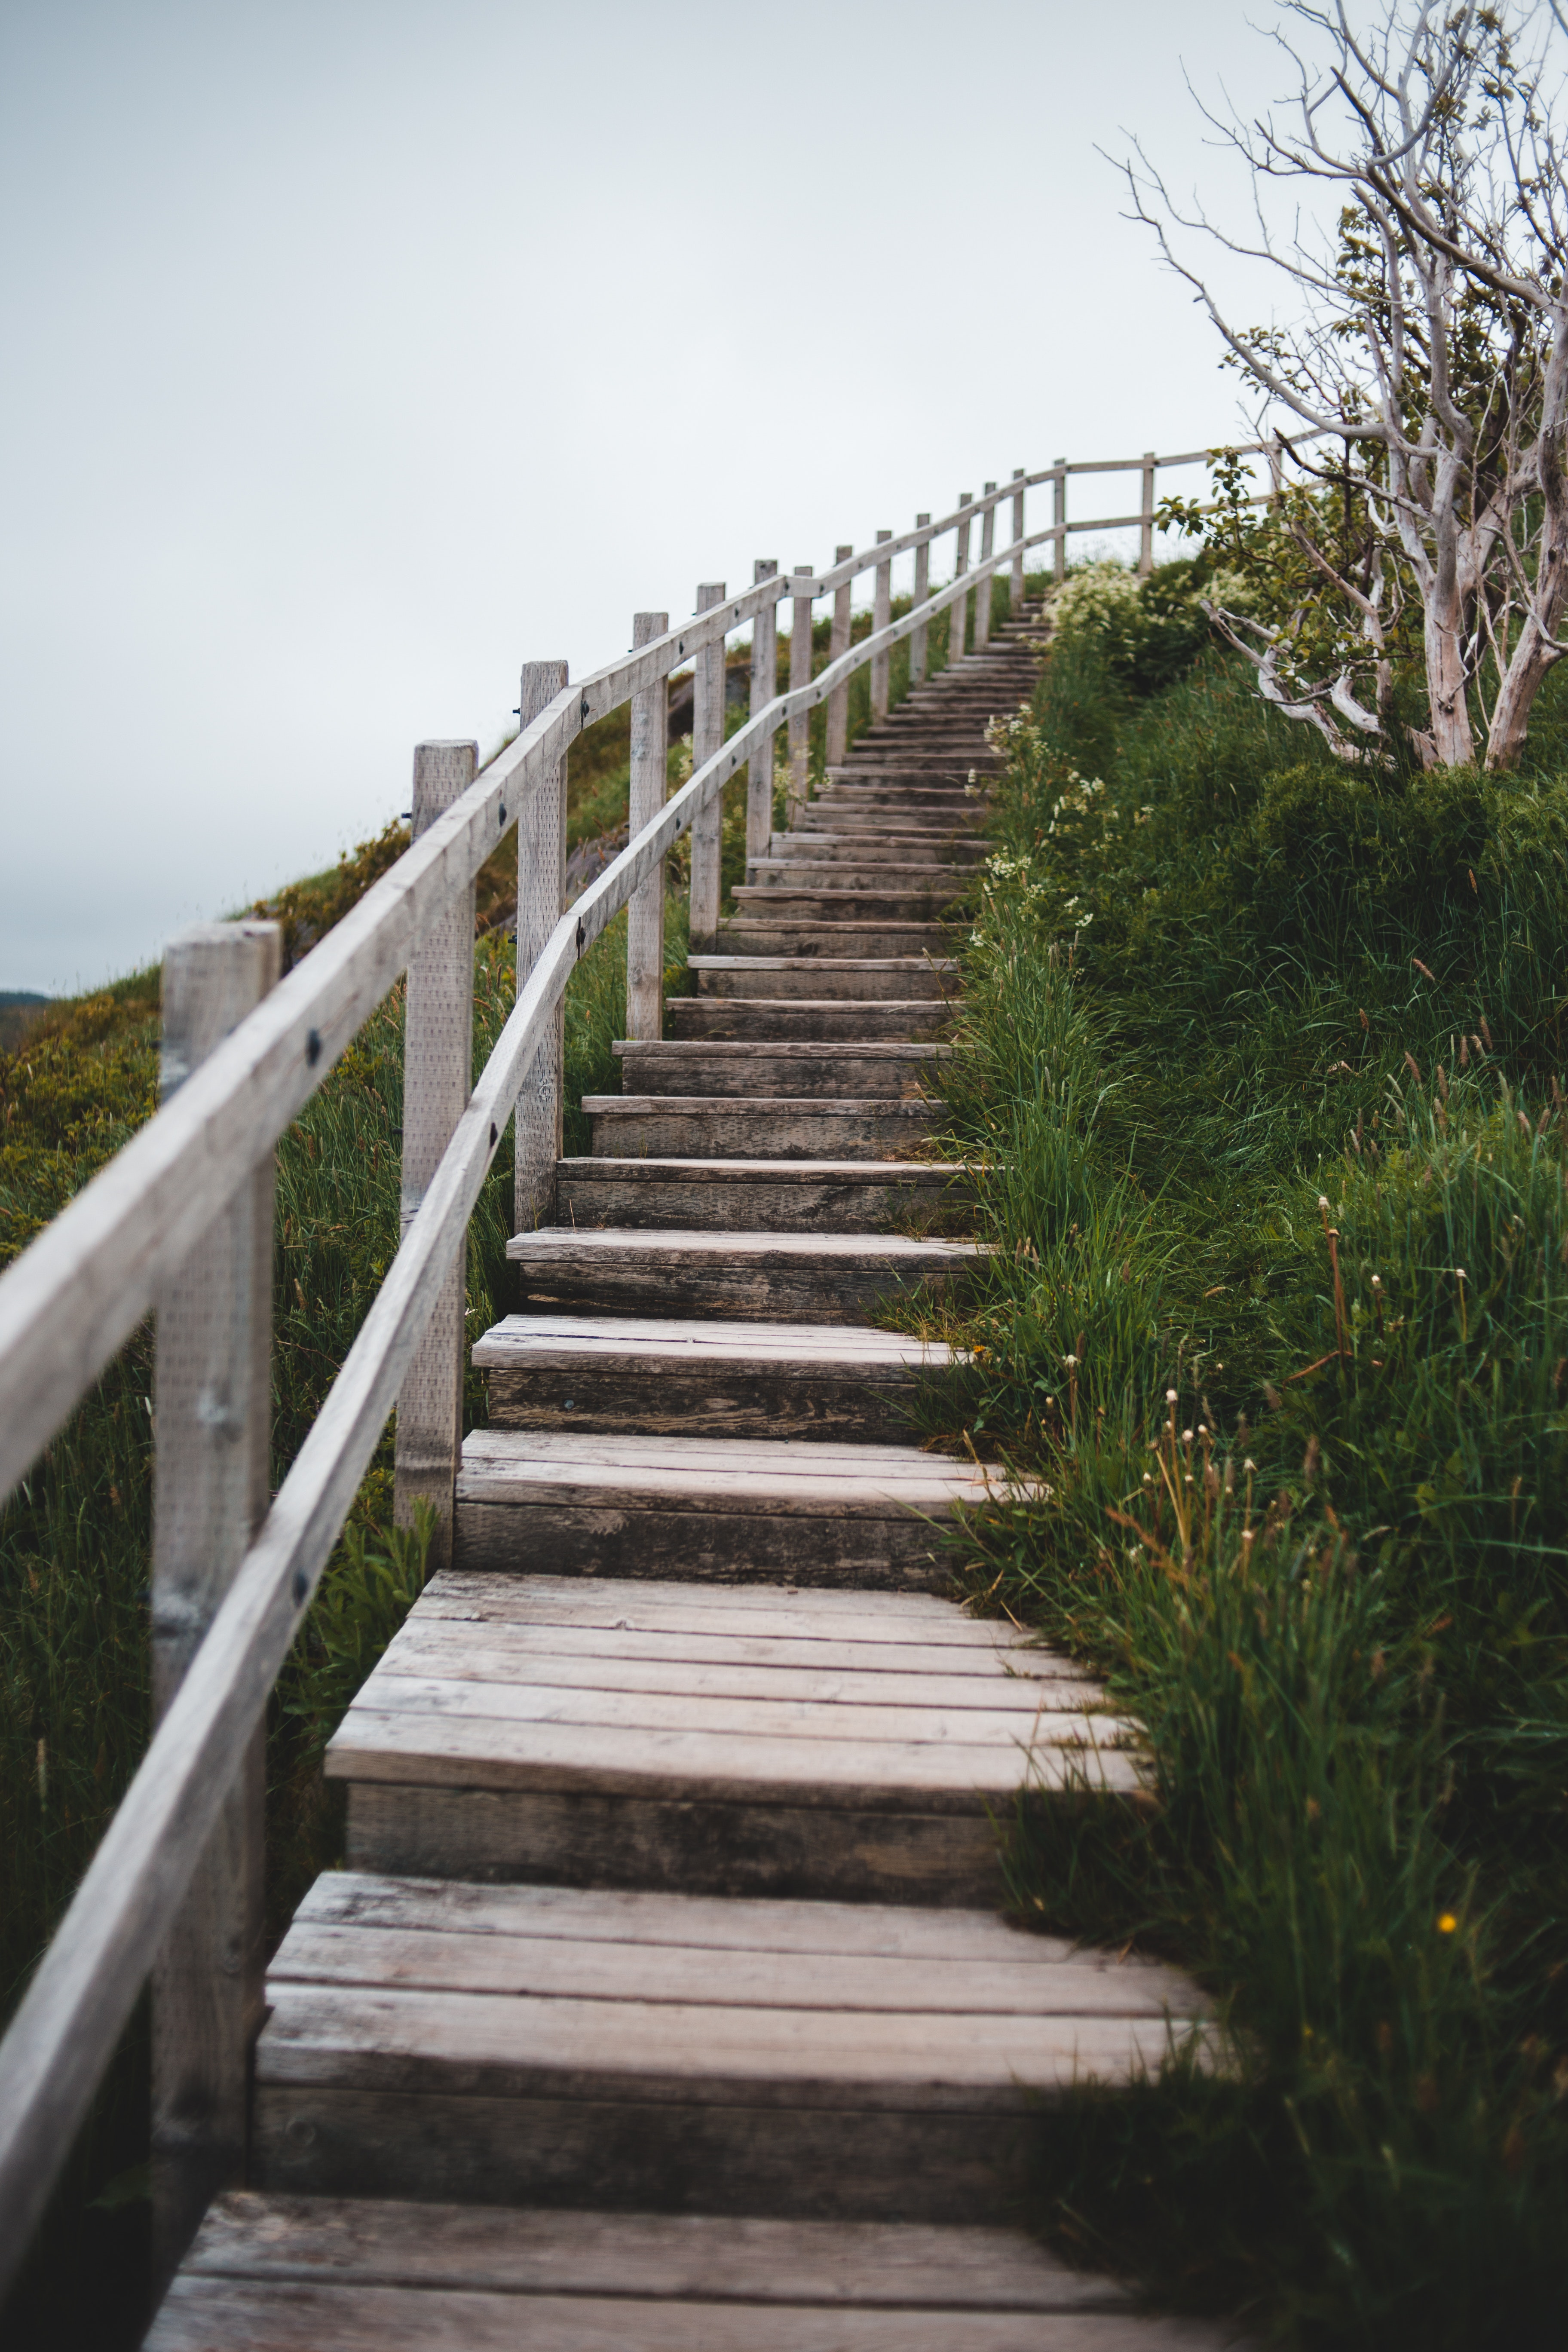upstairs: (499, 1319, 1053, 2287)
